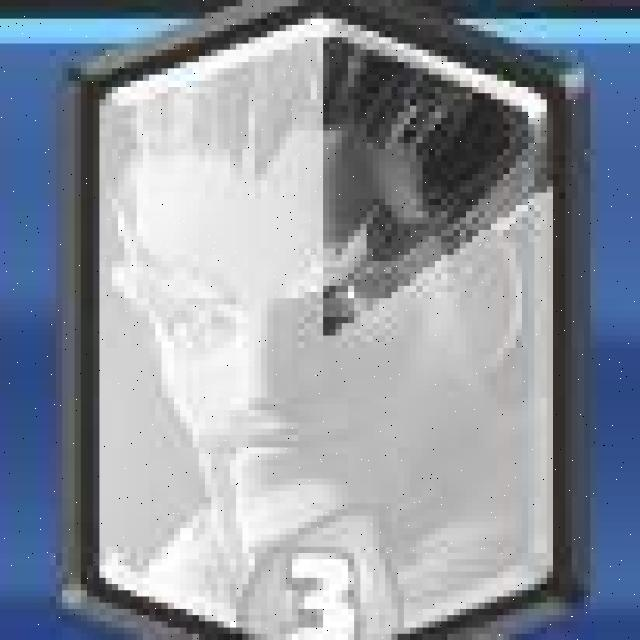Ice_Wizard: (87, 0, 585, 640)
